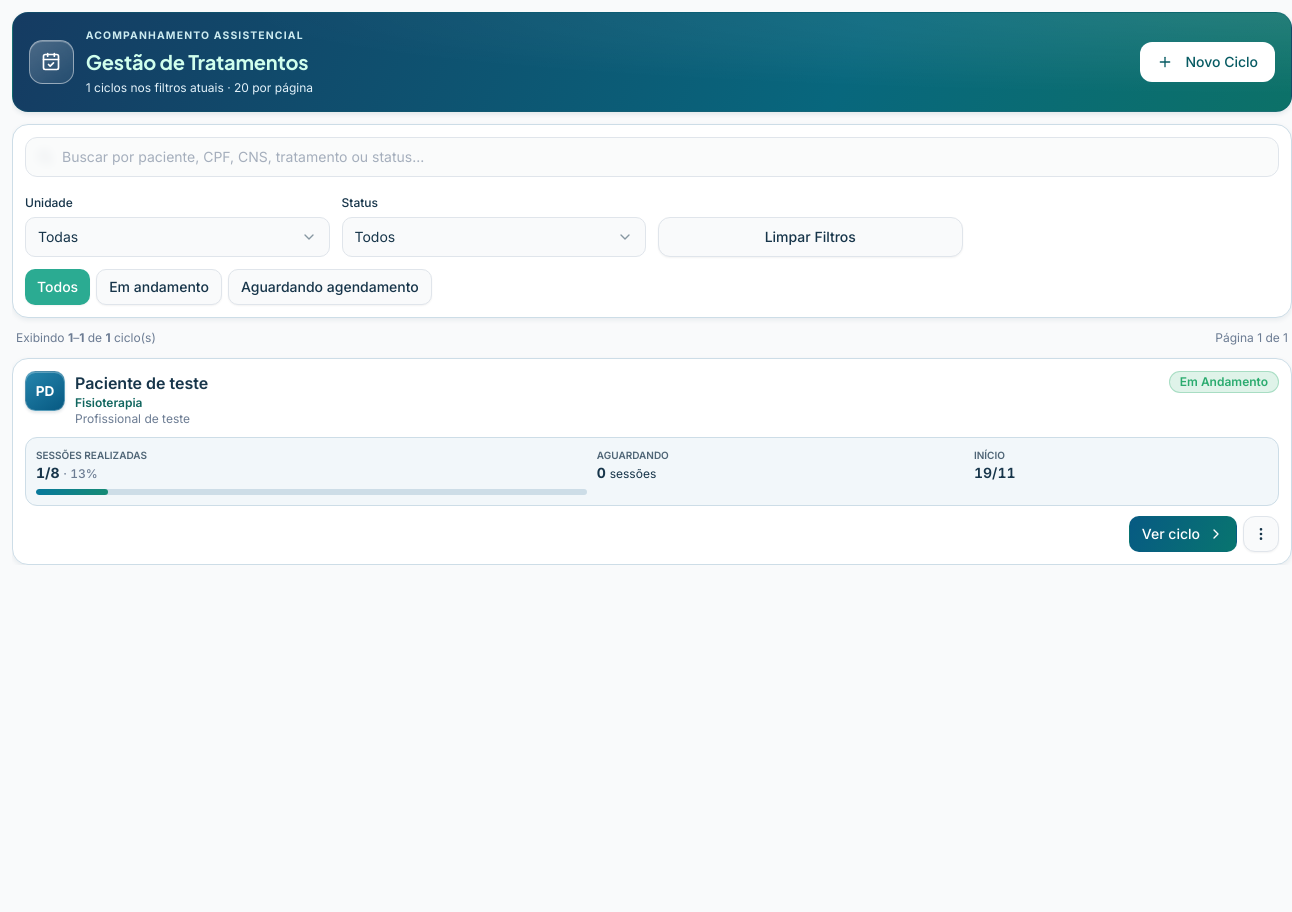
Sinalização das datas das sessões › conta somente sessões agendadas no passado do ciclo aberto e distingue a sessão de hoje
Click the text "Paciente de teste" at (142, 383), box [75, 373, 208, 393]
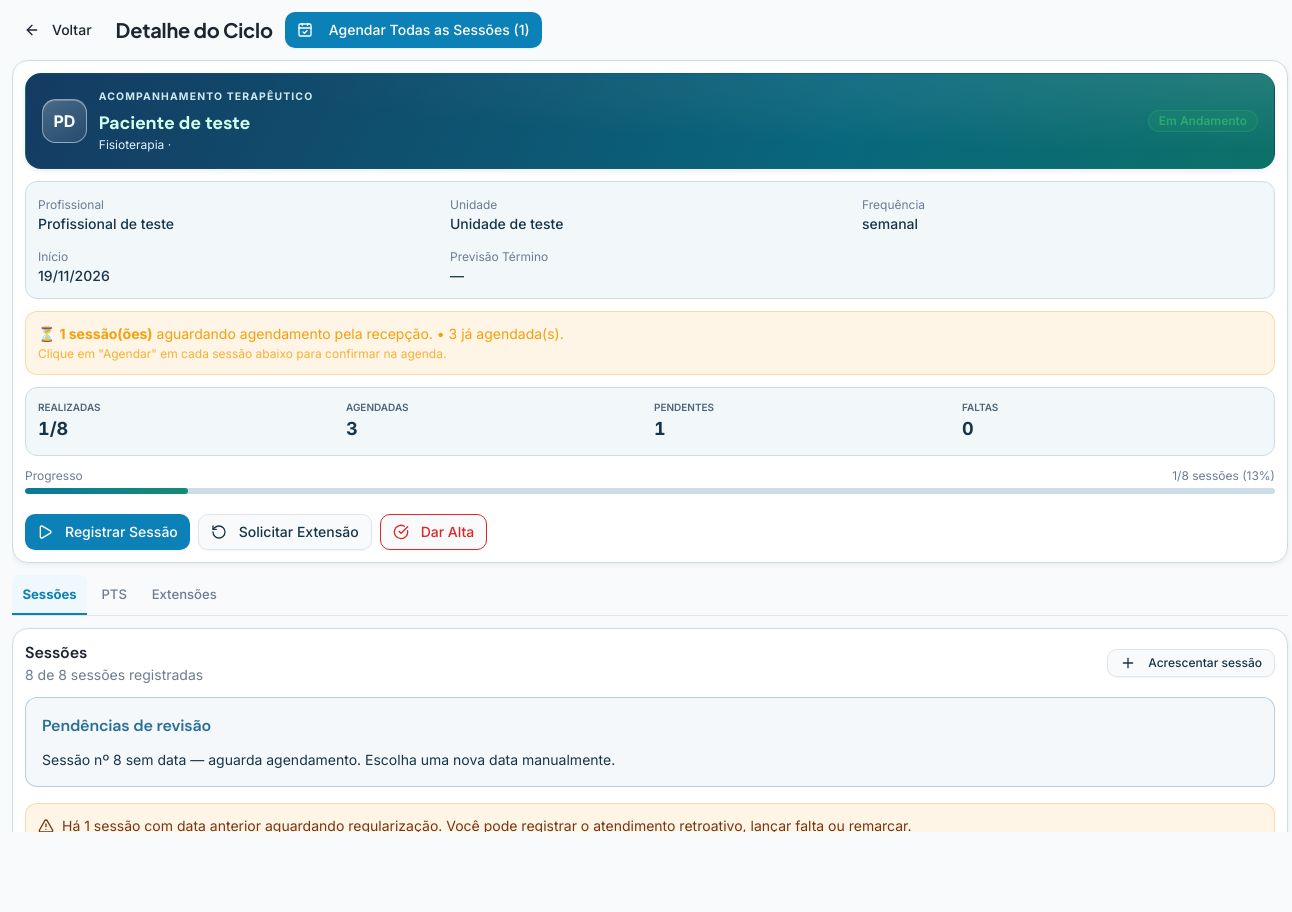
Now the text "8 de 8 sessões registradas" is shown, box [25, 665, 203, 685]
Now the message shows "Há 1 sessão com data anterior aguardando regularização.", box [62, 817, 442, 832]
